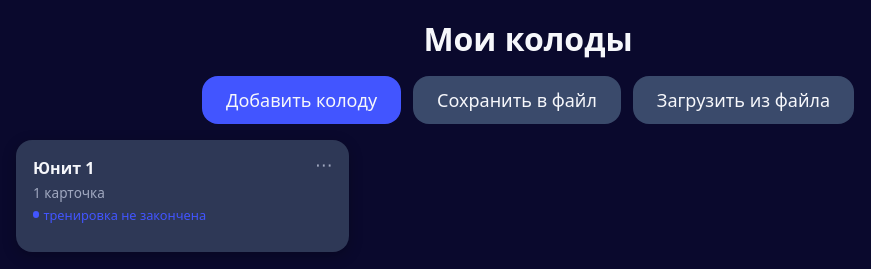
Test: App: полный цикл › сохранённая сессия видна в библиотеке и открывается на возобновлении
Check: the heading "Мои колоды" is shown, box [423, 16, 633, 60]
Check: the text "тренировка не закончена" is shown, box [33, 206, 206, 224]
Click the button "Юнит 1 1 карточка тренировка не закончена". click: (64, 168)
box: [17, 140, 348, 250]
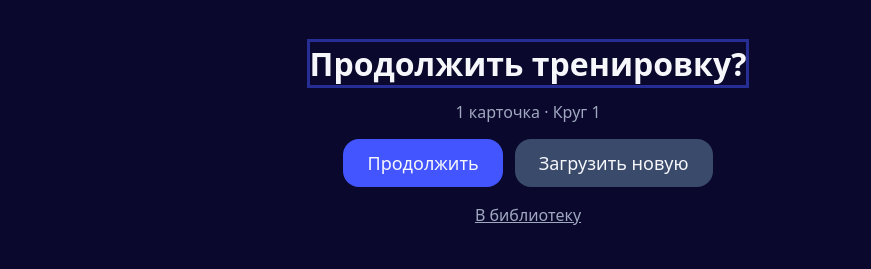
Check: the heading "Продолжить тренировку?" is shown, box [310, 42, 746, 84]
